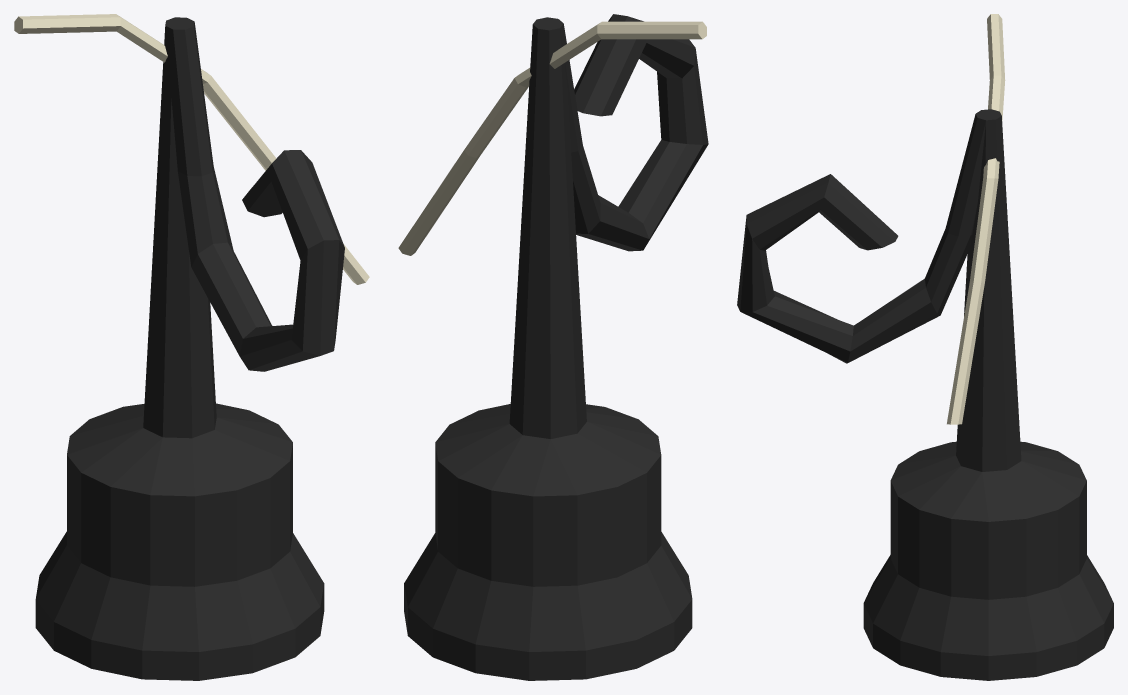
File: rushlight.glb
3 views of the same model, side by side, from view 1: azimuth 30°, elevation 25°; view 2: azimuth 150°, elevation 25°; view 3: azimuth 270°, elevation 25° (orthographic). The views are drawn at different scales.
Parts seen in each view (by area): view 1: Cylinder, Cylinder.001; view 2: Cylinder, Cylinder.001; view 3: Cylinder, Cylinder.001.
Part boxes in pixels (x1=…): Cylinder: x1=35, y1=17, x2=344, y2=680; Cylinder.001: x1=14, y1=14, x2=369, y2=284; Cylinder: x1=404, y1=14, x2=708, y2=680; Cylinder.001: x1=398, y1=21, x2=706, y2=255; Cylinder: x1=737, y1=109, x2=1113, y2=680; Cylinder.001: x1=947, y1=14, x2=1005, y2=424.
Bounding box in the file's own units: 2.6 × 4.84 × 3.01.
